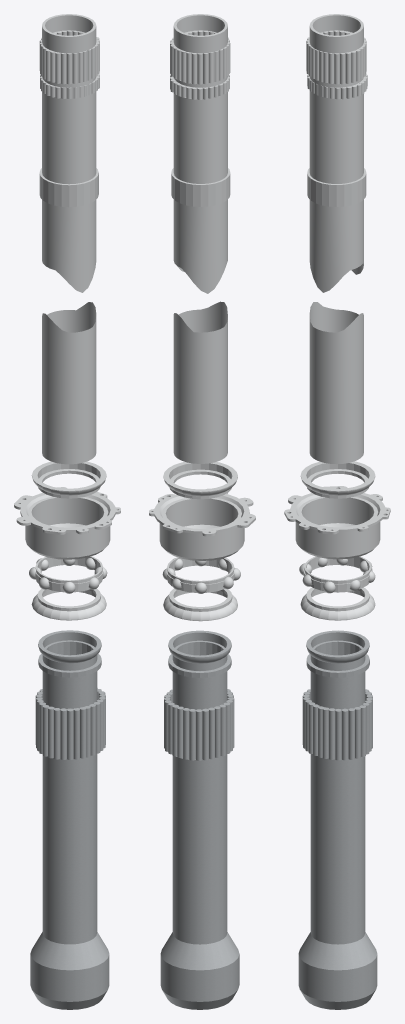
File: 3d obj untuk inspeksi mas reza.fbx
3 views of the same model, side by side, from view 1: azimuth 30°, elevation 25°; view 2: azimuth 210°, elevation 25°; view 3: azimuth 330°, elevation 25° (orthographic).
Visible parts, largest first — view 1: 1, 7, 6, 4, 5, 3, 2; view 2: 1, 7, 6, 4, 5, 3, 2; view 3: 1, 7, 6, 4, 5, 3, 2.
Part boxes in pixels (x1,y1,x2,y2): 1: (30, 630, 109, 1009); 7: (39, 14, 99, 292); 6: (42, 302, 96, 464); 4: (14, 487, 120, 559); 5: (31, 461, 106, 498); 3: (29, 556, 107, 593); 2: (31, 588, 106, 620); 1: (160, 630, 239, 1009); 7: (170, 14, 230, 293); 6: (173, 301, 227, 463); 4: (149, 488, 255, 560); 5: (163, 462, 237, 499); 3: (162, 557, 240, 593); 2: (163, 588, 237, 621); 1: (298, 630, 377, 1009); 7: (306, 14, 367, 292); 6: (309, 302, 363, 464); 4: (284, 486, 390, 559); 5: (300, 461, 375, 498); 3: (299, 556, 375, 593); 2: (300, 587, 375, 620).
Bounding box in the file's own units: 48.4 × 481 × 46.99.
Materials: 7 (1 with a texture image).
